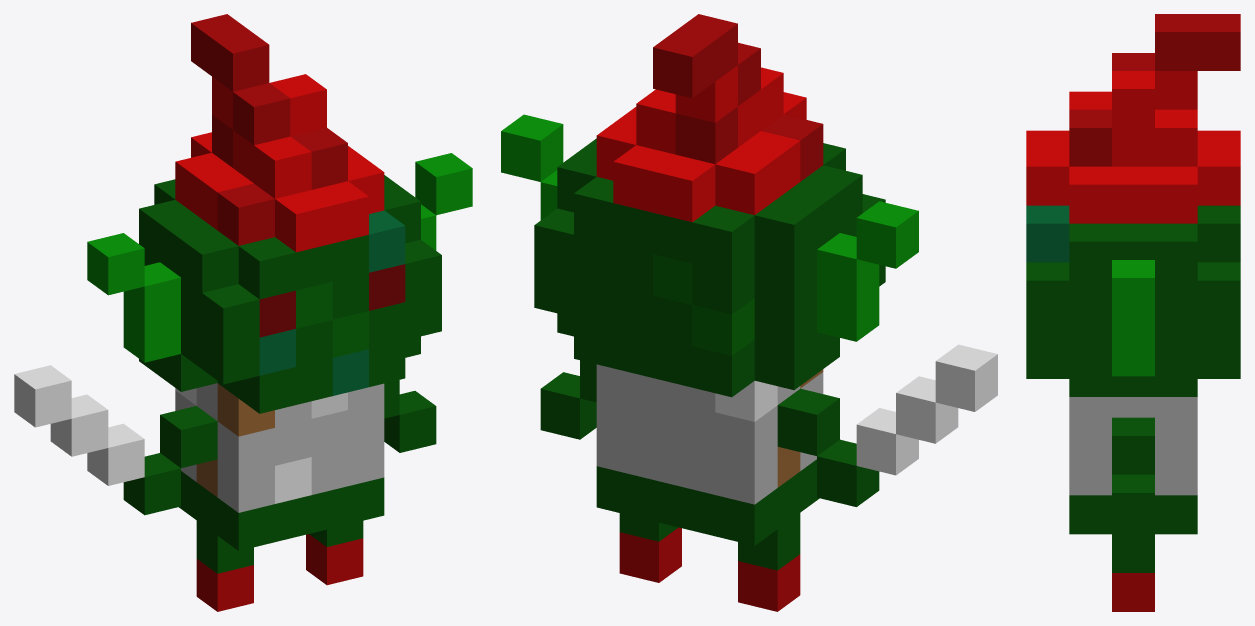
File: SwordGoblin_Idle1.obj
The picture shows the model from 3 angles, left to right: view 1: azimuth 30°, elevation 25°; view 2: azimuth 150°, elevation 25°; view 3: azimuth 270°, elevation 25°; orthographic projection. The views are drawn at different scales.
Bounding box in the file's own units: 12 × 14 × 5.
Materials: 1 (1 with a texture image).
